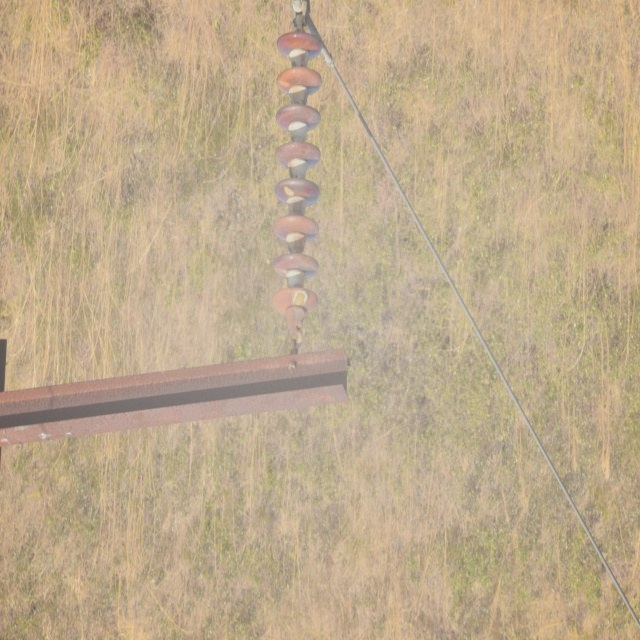insulator: (270, 32, 323, 314)
